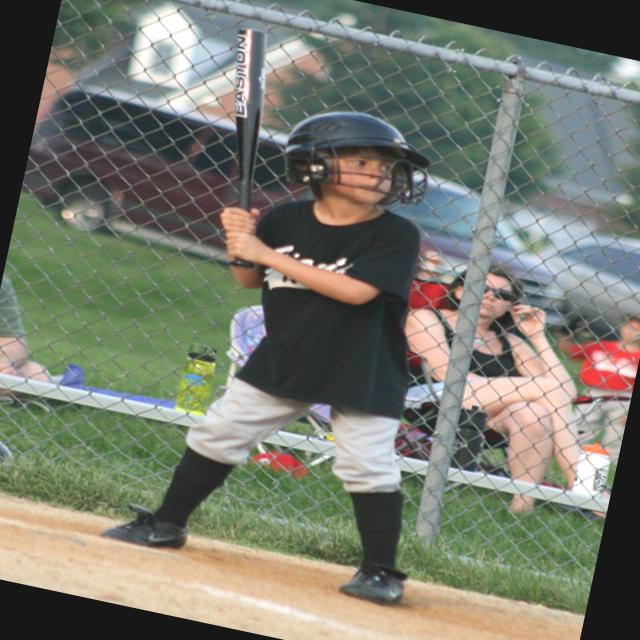Vehicle: (14, 79, 258, 271), (368, 164, 594, 342), (508, 215, 640, 359)
